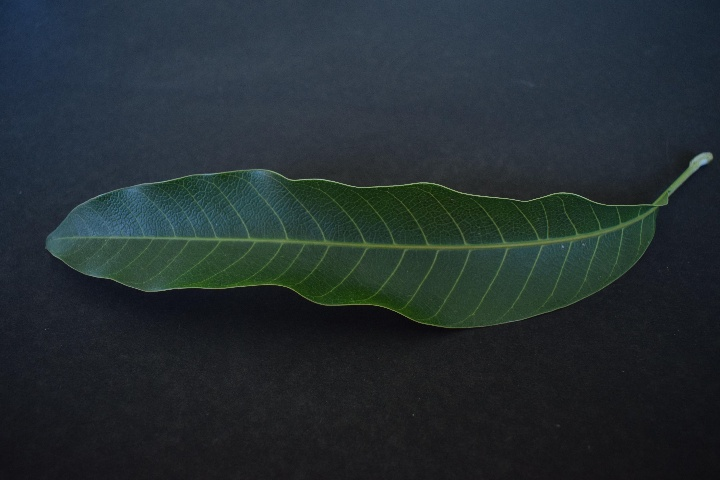healthy: (73, 165, 668, 351)
